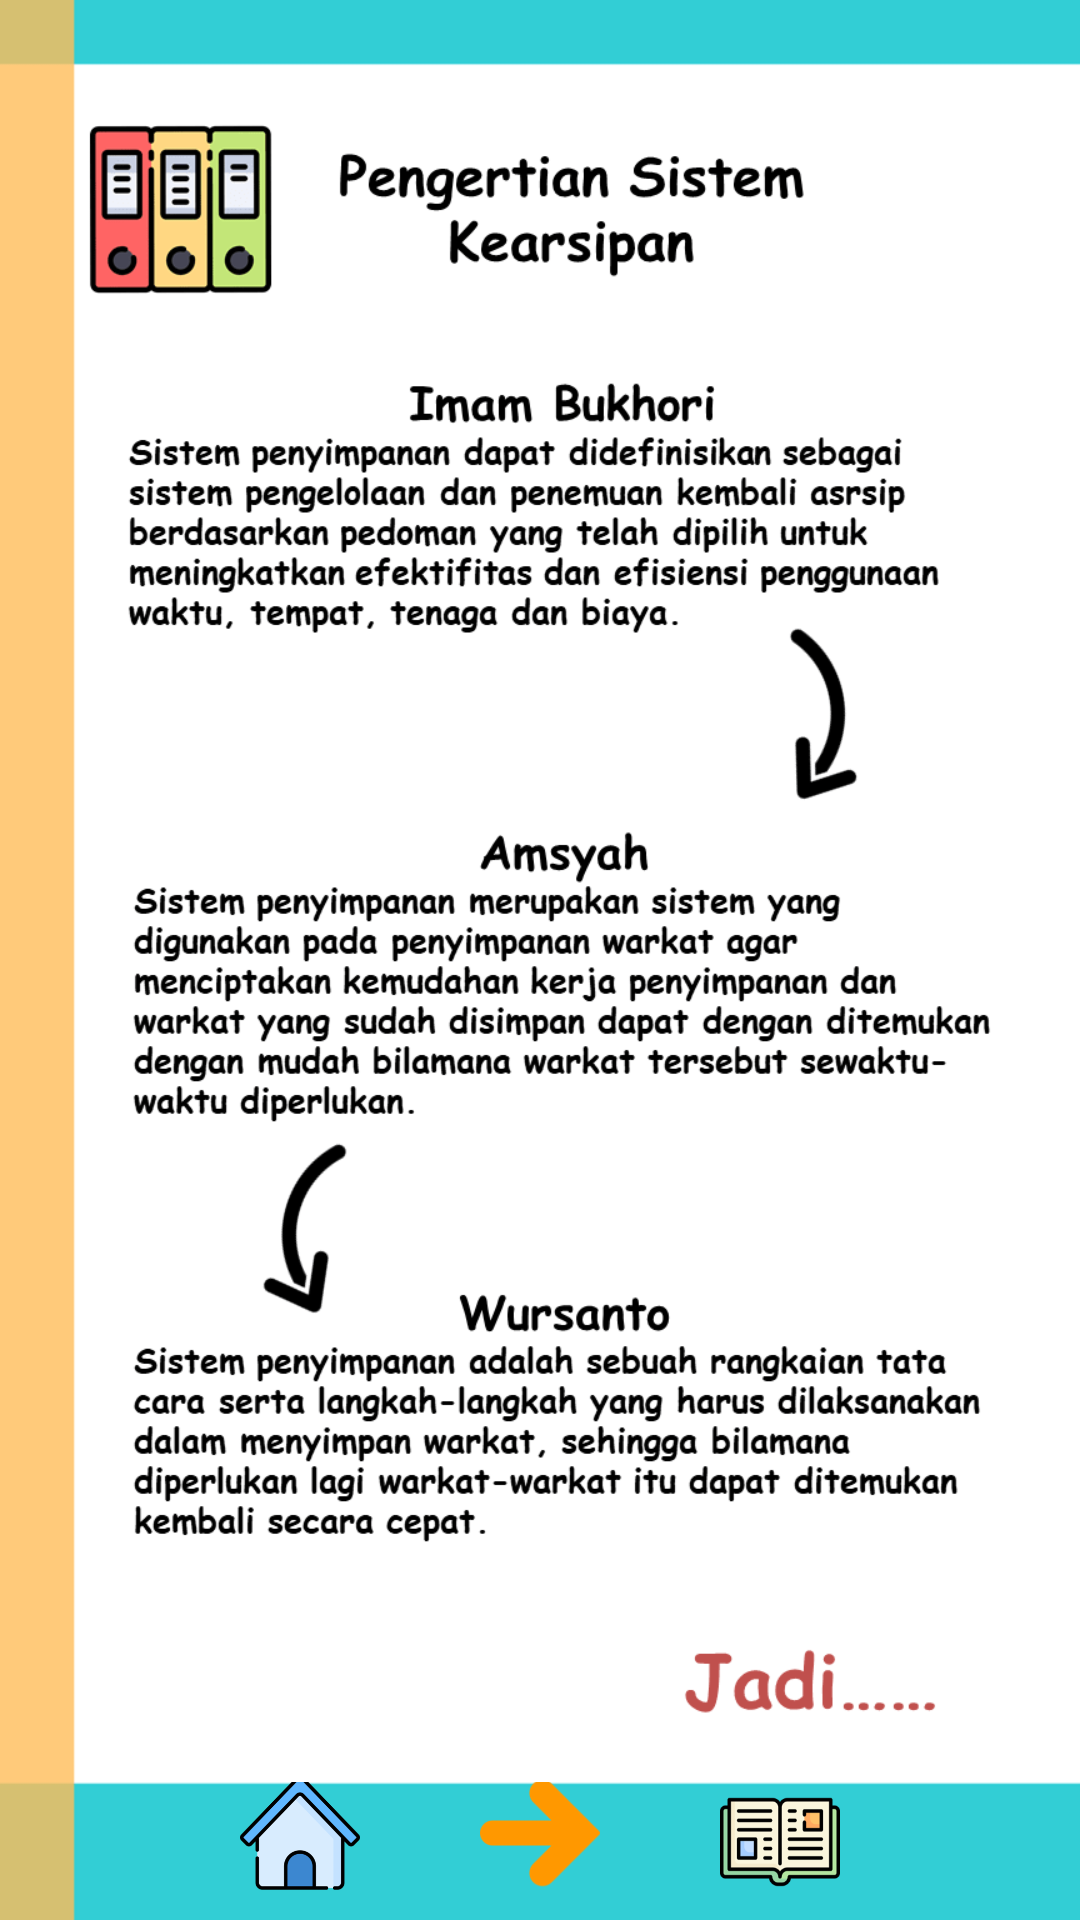

Where to tap for icons on this 1080 x 1920 app screen, as point (x, y):
home: point (300, 1836)
materi: point (780, 1842)
next: point (540, 1834)
